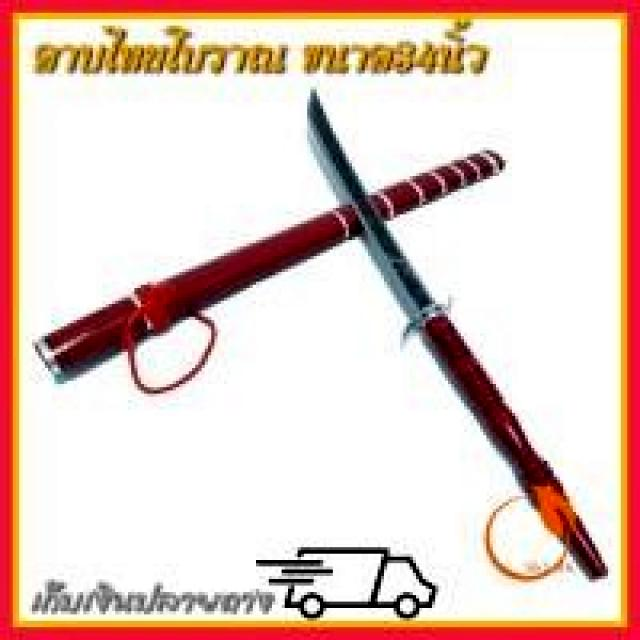long sword: (302, 85, 610, 588)
